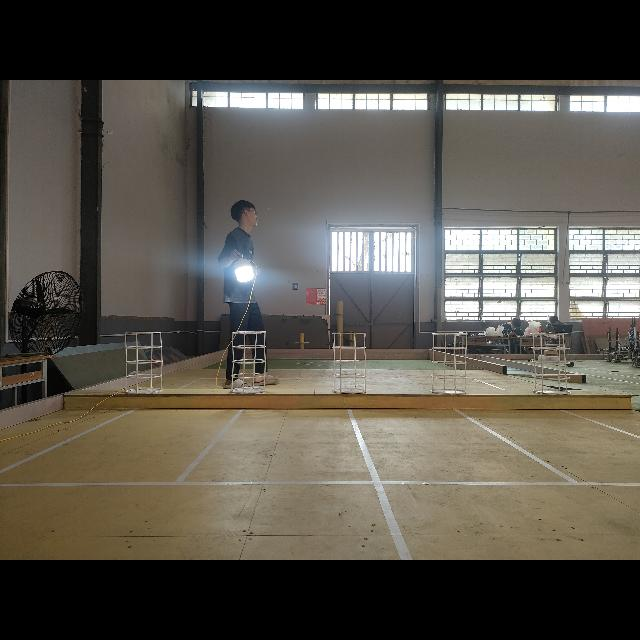S: (528, 326, 570, 399), (122, 331, 166, 395), (330, 330, 370, 398), (431, 328, 469, 398), (230, 330, 270, 394)
